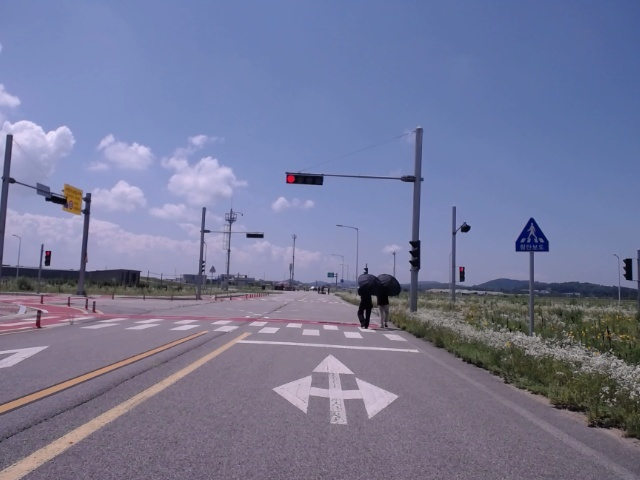red_4: (286, 175, 323, 185)
